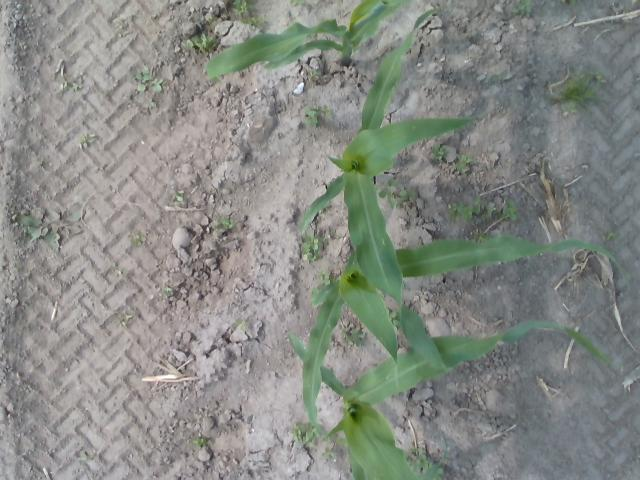Maize: (301, 234, 629, 450), (298, 8, 448, 373), (281, 318, 616, 480), (205, 0, 402, 81)
Weeds: (17, 205, 86, 253), (548, 72, 594, 104), (380, 180, 404, 205), (448, 203, 478, 222), (306, 106, 332, 126), (301, 236, 321, 262), (132, 66, 150, 92), (475, 195, 493, 219), (342, 328, 362, 346), (292, 425, 312, 442), (196, 34, 214, 52), (456, 155, 472, 175), (411, 450, 428, 468), (504, 199, 516, 219), (516, 1, 532, 16), (234, 1, 248, 17), (82, 134, 96, 148), (150, 78, 164, 92), (193, 437, 213, 446), (432, 146, 444, 160), (401, 187, 415, 199), (74, 76, 85, 90), (250, 14, 264, 25), (562, 103, 576, 114), (322, 449, 338, 458), (594, 72, 606, 84), (175, 189, 185, 203), (308, 70, 322, 80), (322, 270, 332, 283), (221, 220, 232, 231), (209, 16, 220, 27), (474, 230, 486, 240), (136, 234, 147, 244), (110, 262, 118, 274), (604, 231, 614, 240), (186, 38, 194, 48), (290, 0, 306, 5), (562, 0, 576, 5), (117, 320, 126, 327), (123, 312, 131, 319), (165, 286, 172, 293)
